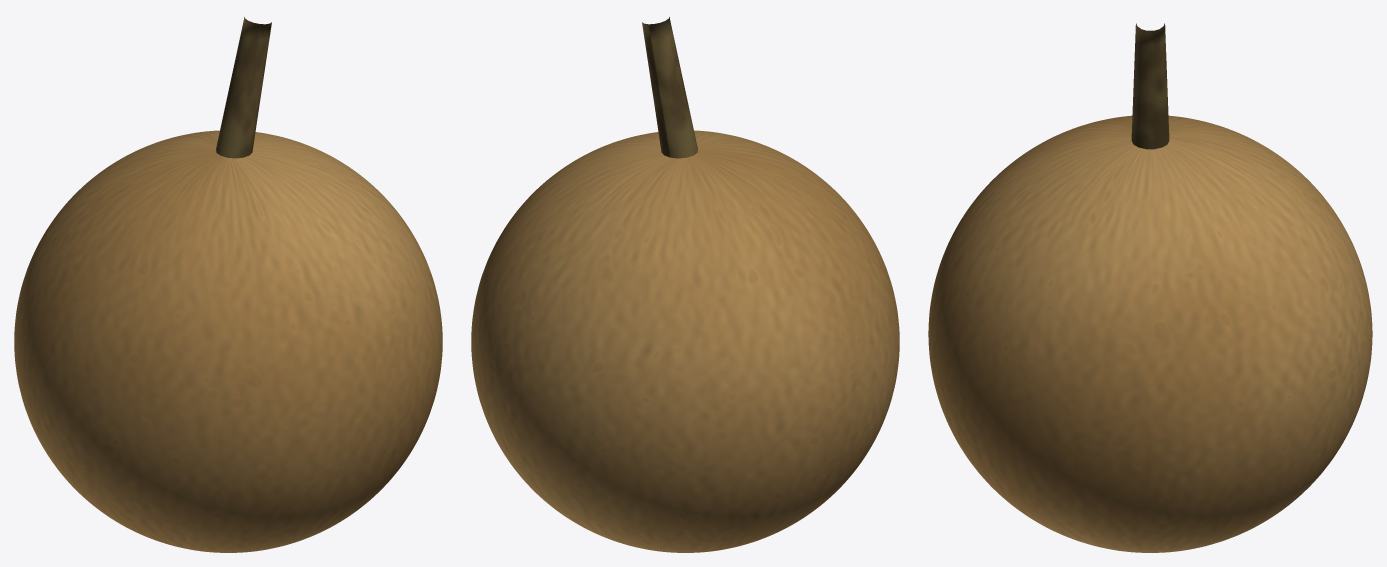
Rendered from longani.glb.
3 renders of one model, left to right at view 1: azimuth 30°, elevation 25°; view 2: azimuth 150°, elevation 25°; view 3: azimuth 270°, elevation 25°, orthographic. The views are drawn at different scales.
Visible parts, largest first — view 1: entier_peau, moitie_A_peau, moitie_B_peau, entier_extra0; view 2: entier_peau, moitie_B_peau, moitie_A_peau, entier_extra0; view 3: entier_peau, moitie_A_peau, moitie_B_peau, entier_extra0.
Boxes of the visible parts, x1,y1,x2,y2 form: entier_peau: (14,130,442,552); moitie_A_peau: (46,146,442,552); moitie_B_peau: (14,130,343,502); entier_extra0: (216,17,271,158); entier_peau: (471,130,899,552); moitie_B_peau: (471,146,867,552); moitie_A_peau: (577,130,899,502); entier_extra0: (642,17,697,158); entier_peau: (928,115,1372,552); moitie_A_peau: (928,116,1149,552); moitie_B_peau: (1151,116,1372,552); entier_extra0: (1131,23,1169,149).
Size of the model in its own units: 0.0244 by 0.032 by 0.0244.
Materials: 3 (3 with a texture image).
